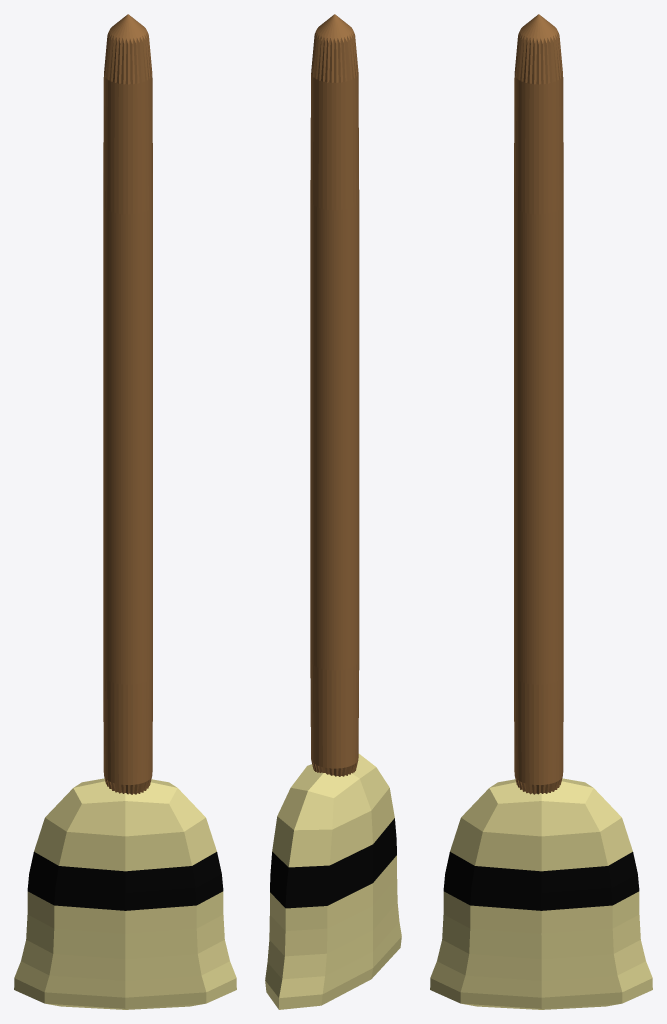
File: UMUM_SAPU.fbx
3 renders of one model, left to right at view 1: azimuth 90°, elevation 25°; view 2: azimuth 150°, elevation 25°; view 3: azimuth 270°, elevation 25°, orthographic. The views are drawn at different scales.
Visible parts, largest first — view 1: Cylinder.056; view 2: Cylinder.056; view 3: Cylinder.056.
Boxes of the visible parts, x1=… form: Cylinder.056: x1=14, y1=14, x2=236, y2=1009; Cylinder.056: x1=265, y1=14, x2=401, y2=1009; Cylinder.056: x1=430, y1=14, x2=652, y2=1009.
Bounding box in the file's own units: 15.52 × 181 × 37.01.
